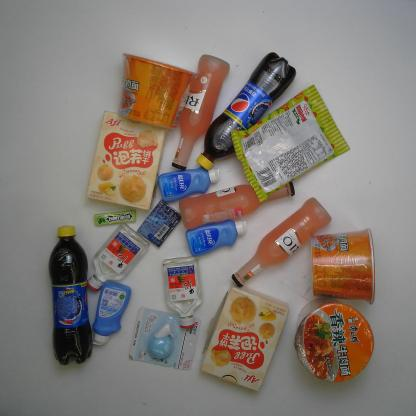Alcohol: (230, 196, 333, 289), (169, 52, 231, 172), (178, 179, 296, 230), (87, 222, 150, 292), (162, 255, 203, 330)
Dessert: (198, 282, 290, 392), (84, 109, 170, 212)
Drink: (195, 50, 297, 171), (47, 224, 94, 367)
Gum: (136, 198, 182, 249), (94, 210, 136, 226)
Instant Noodles: (293, 301, 375, 383), (117, 52, 198, 130), (310, 226, 376, 305)
Personal Hygiene: (92, 279, 132, 346), (185, 218, 248, 257), (157, 166, 220, 203)
Puffed Food: (230, 83, 352, 203)
Stationery: (127, 306, 202, 371)
